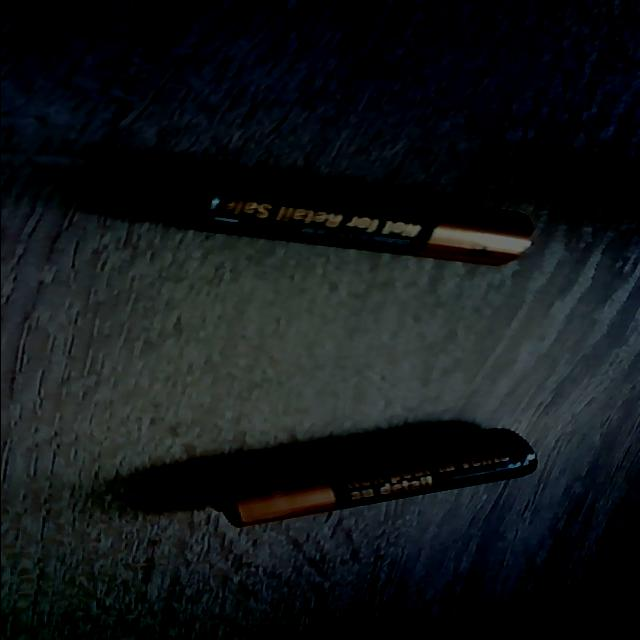AA: (155, 166, 535, 266), (210, 426, 538, 528)
